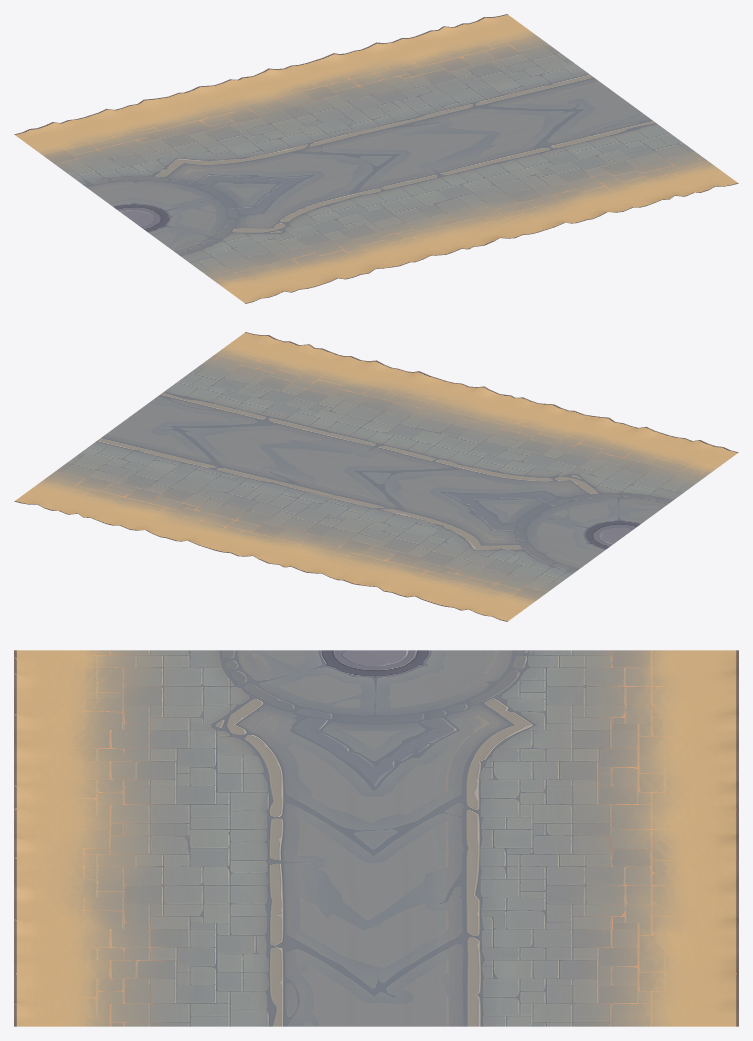
Rendered from Bridge11.FBX.
3 renders of one model, top to bottom at view 1: azimuth 30°, elevation 25°; view 2: azimuth 150°, elevation 25°; view 3: azimuth 270°, elevation 25°, orthographic. The views are drawn at different scales.
Parts seen in each view (by area): view 1: bridge11; view 2: bridge11; view 3: bridge11.
Part boxes in pixels (x1,y1,x2,y2): bridge11: [14, 14, 738, 303]; bridge11: [14, 332, 738, 621]; bridge11: [14, 650, 738, 1026].
Bounding box in the file's own units: 32.08 × 0.2428 × 26.1.
Materials: 1 (1 with a texture image).
